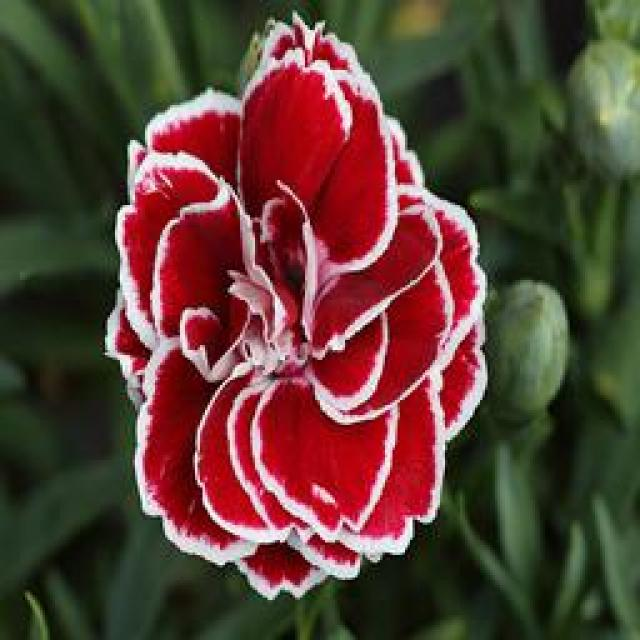carnation: (88, 17, 508, 586)
